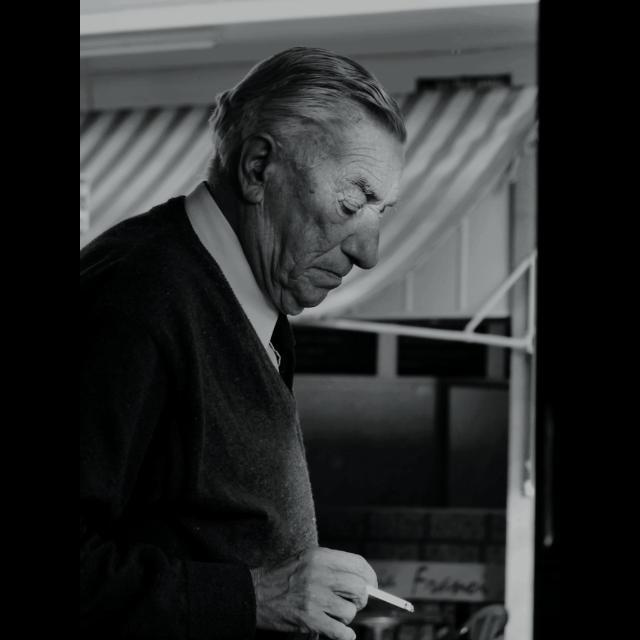rokok: (363, 578, 417, 620)
